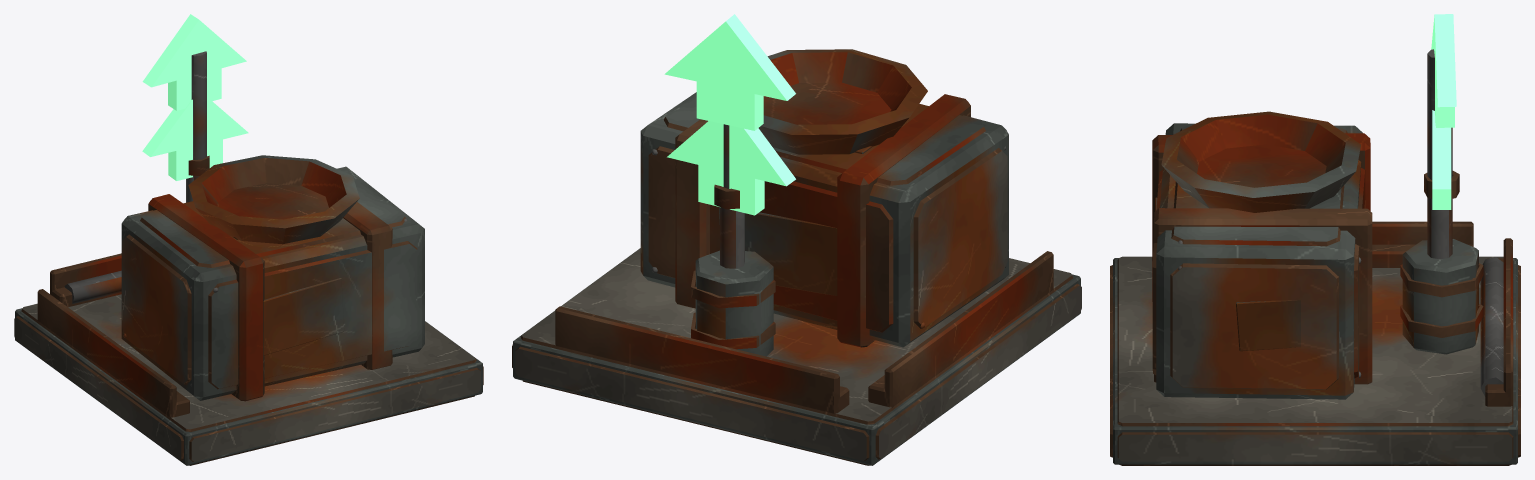
File: R4X_CargoUplink.glb
3 views of the same model, side by side, from view 1: azimuth 30°, elevation 25°; view 2: azimuth 150°, elevation 25°; view 3: azimuth 270°, elevation 25° (orthographic). The views are drawn at different scales.
Visible parts, largest first — view 1: R4X_CargoUplink_Body; view 2: R4X_CargoUplink_Body; view 3: R4X_CargoUplink_Body.
Part boxes in pixels (x1=…): R4X_CargoUplink_Body: x1=14, y1=14, x2=483, y2=465; R4X_CargoUplink_Body: x1=512, y1=14, x2=1081, y2=465; R4X_CargoUplink_Body: x1=1110, y1=14, x2=1520, y2=465.
Size of the model in its own units: 0.52 by 0.515 by 0.52.
5 materials, 4 textured.
